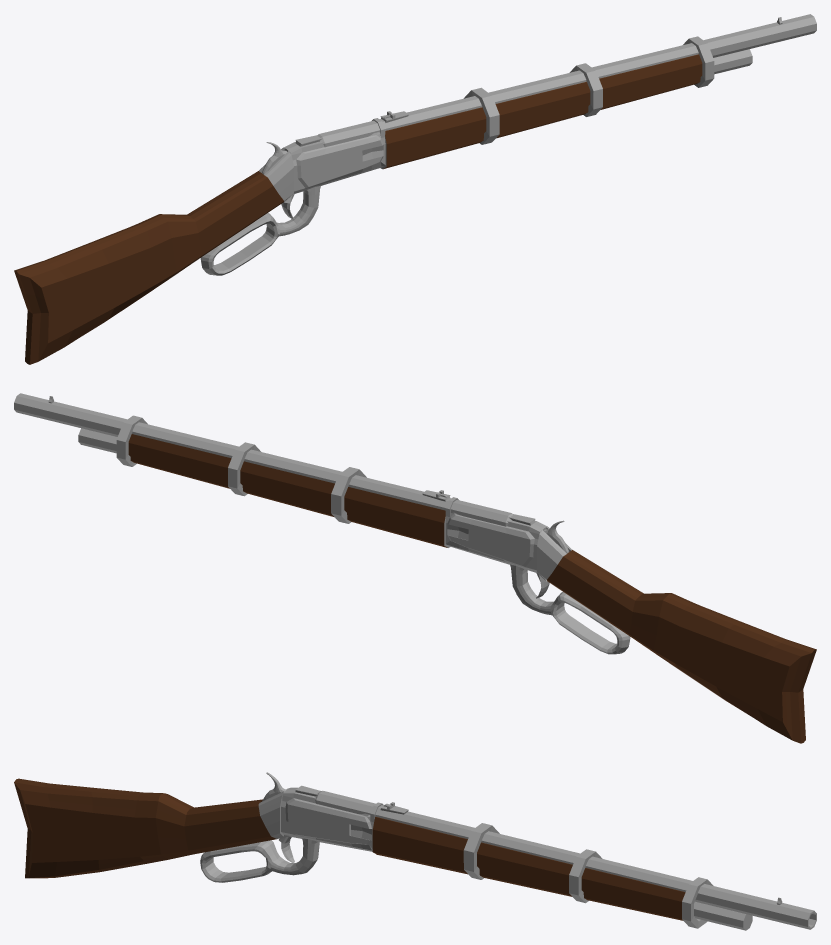
The model's file is Rifle.fbx.
3 views of the same model, one above another, from view 1: azimuth 30°, elevation 25°; view 2: azimuth 150°, elevation 25°; view 3: azimuth 330°, elevation 25° (orthographic).
Parts seen in each view (by area): view 1: Rifle, Barrel1.001, ReloadTrigger, BarrelRing.003, BarrelRing.001, BarrelRing.002, Barrel1; view 2: Rifle, Barrel1.001, ReloadTrigger, BarrelRing.003, BarrelRing.001, BarrelRing.002, Barrel1; view 3: Rifle, Barrel1.001, ReloadTrigger, Barrel1, BarrelRing.003, BarrelRing.001, BarrelRing.002.
Part boxes in pixels (<box>): Rifle: <box>14,54,702,364</box>; Barrel1.001: <box>317,14,816,147</box>; ReloadTrigger: <box>200,185,320,275</box>; BarrelRing.003: <box>464,87,499,144</box>; BarrelRing.001: <box>569,63,602,116</box>; BarrelRing.002: <box>683,36,714,87</box>; Barrel1: <box>713,49,752,74</box>; Rifle: <box>128,434,816,743</box>; Barrel1.001: <box>14,393,513,526</box>; ReloadTrigger: <box>510,564,630,654</box>; BarrelRing.003: <box>331,467,366,523</box>; BarrelRing.001: <box>228,442,260,496</box>; BarrelRing.002: <box>116,415,147,466</box>; Barrel1: <box>78,428,117,453</box>; Rifle: <box>14,778,685,920</box>; Barrel1.001: <box>315,790,816,929</box>; ReloadTrigger: <box>200,838,319,882</box>; Barrel1: <box>694,901,752,930</box>; BarrelRing.003: <box>463,823,499,879</box>; BarrelRing.001: <box>569,849,602,903</box>; BarrelRing.002: <box>682,877,713,928</box>.
Bounding box in the file's own units: 696 × 137 × 39.28.
